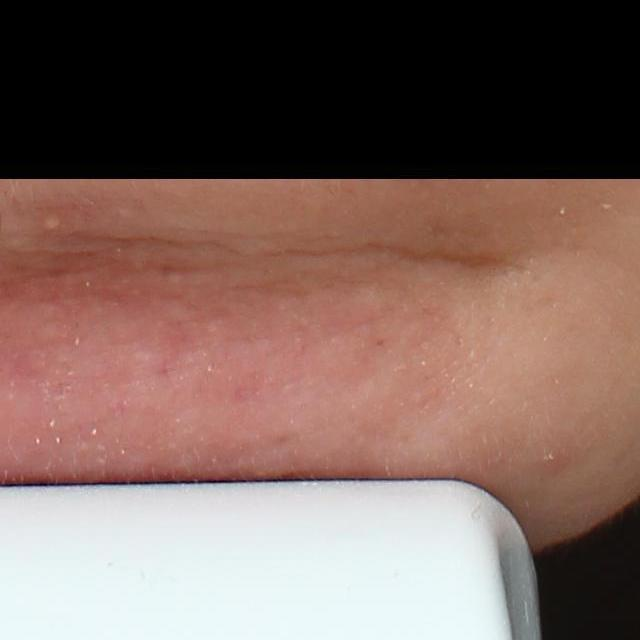pustule: (42, 216, 64, 233)
